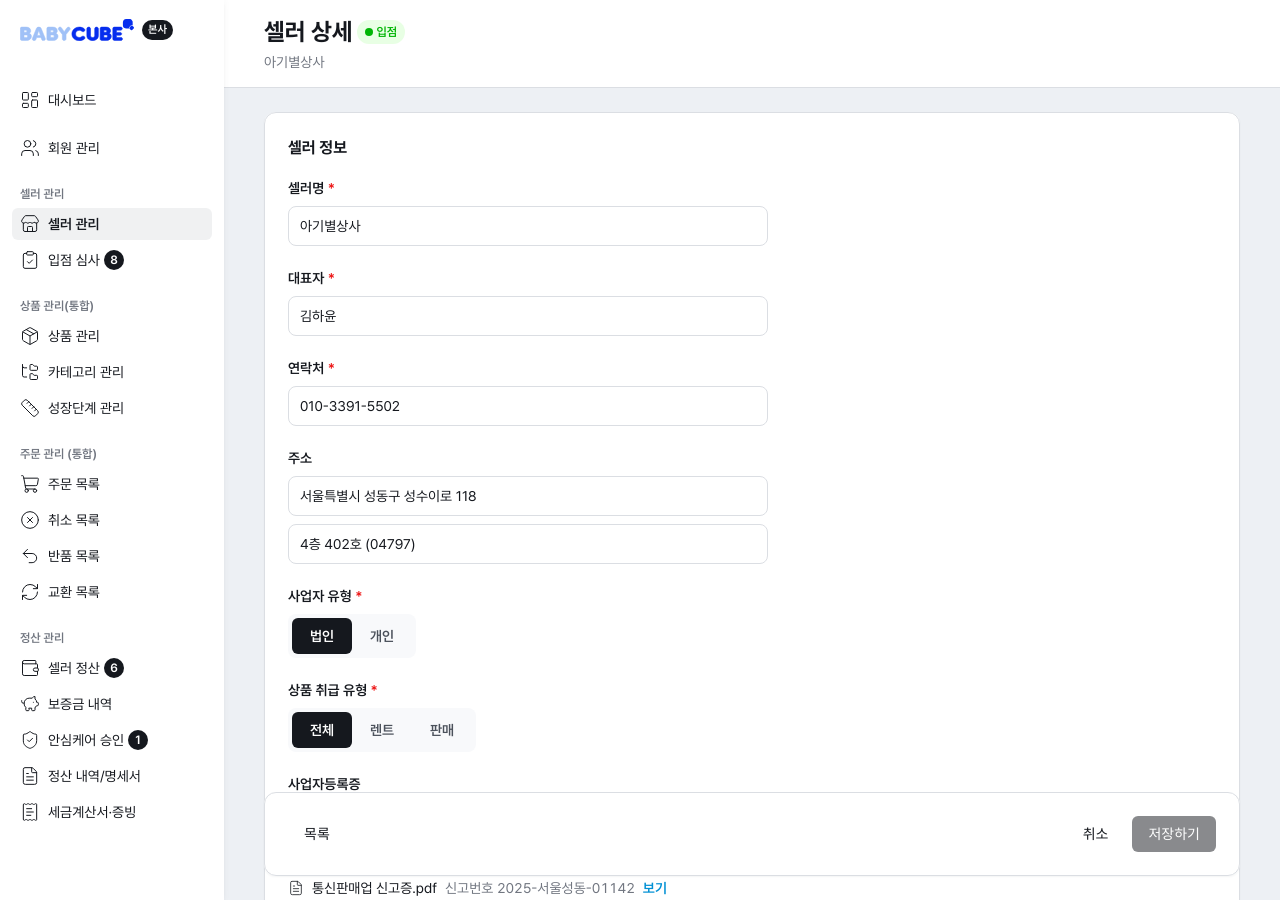
Test: SellerDetailPage (S03-D 셀러 상세) › 운영 정보 — 원본 sec.sellers_oper › 주소 두 칸은 연락처 다음에 있고, 비워도 저장된다
This screenshot has width=1280, height=900.
Clear the field named "도로명 주소": (528, 496) [300,484,756,508]
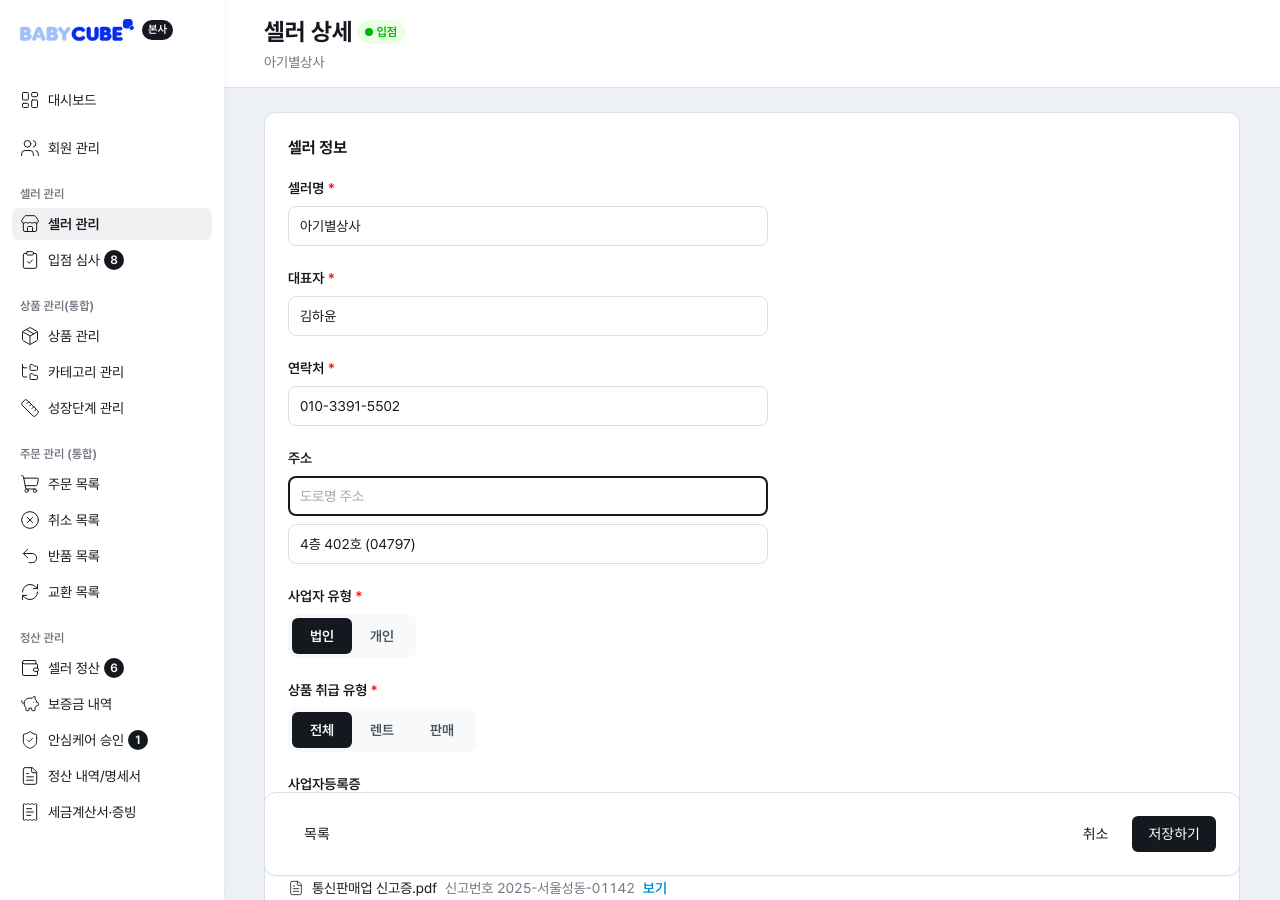
Clear the field named "상세 주소 · 우편번호": (528, 544) [300,532,756,556]
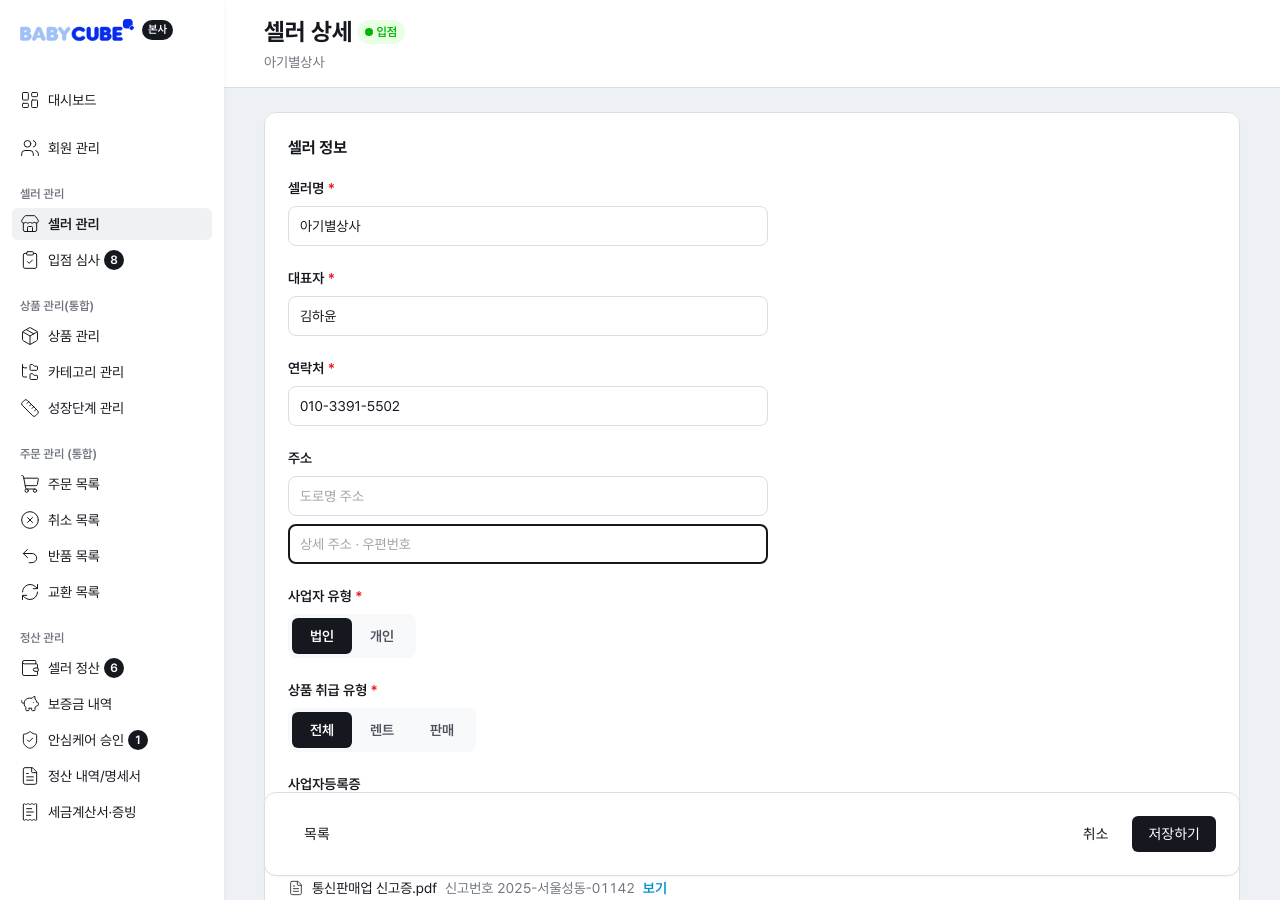
Click the button "저장하기": (1174, 834) [1132,816,1216,852]
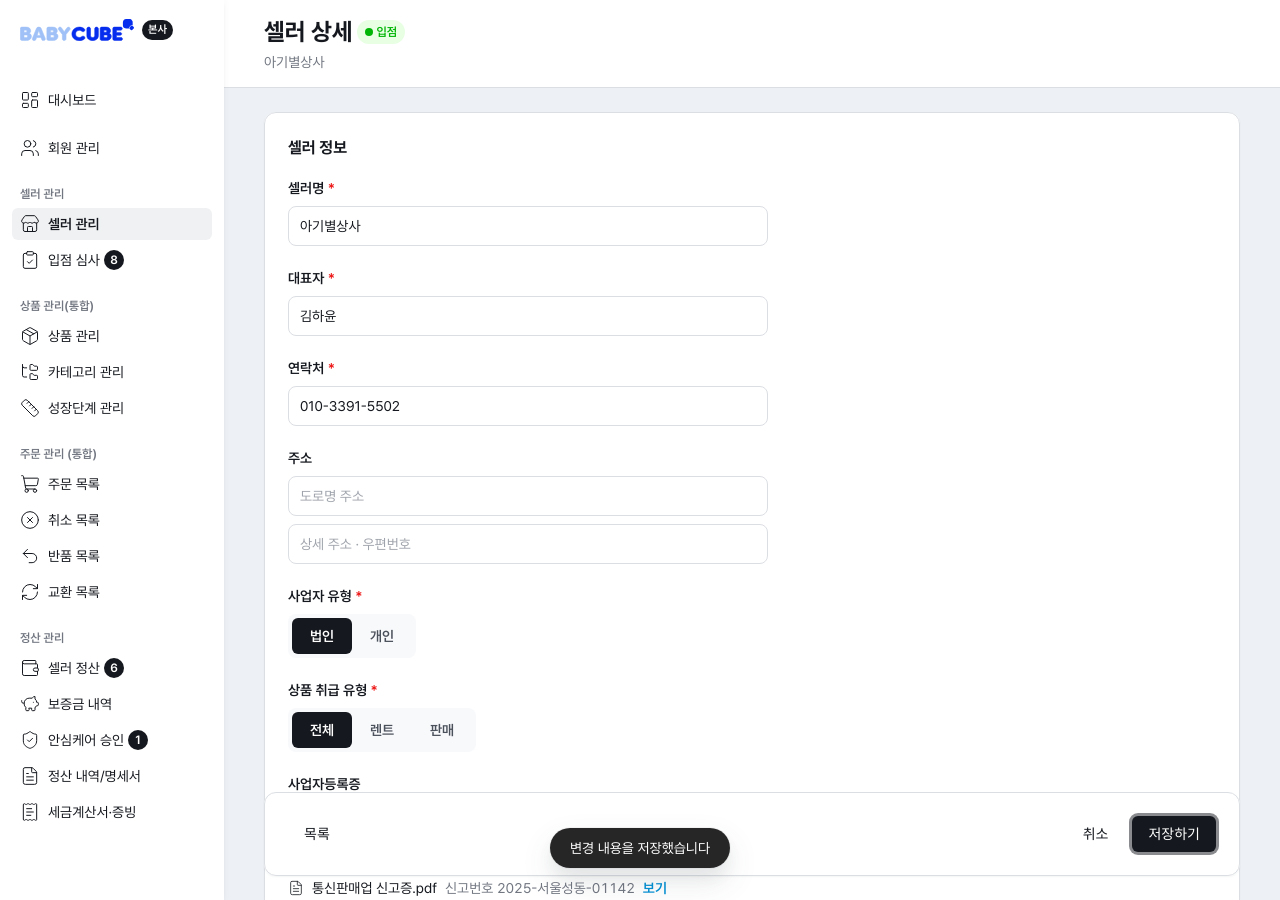
Check: the text "변경 내용을 저장했습니다" is shown, box [550,828,730,868]
